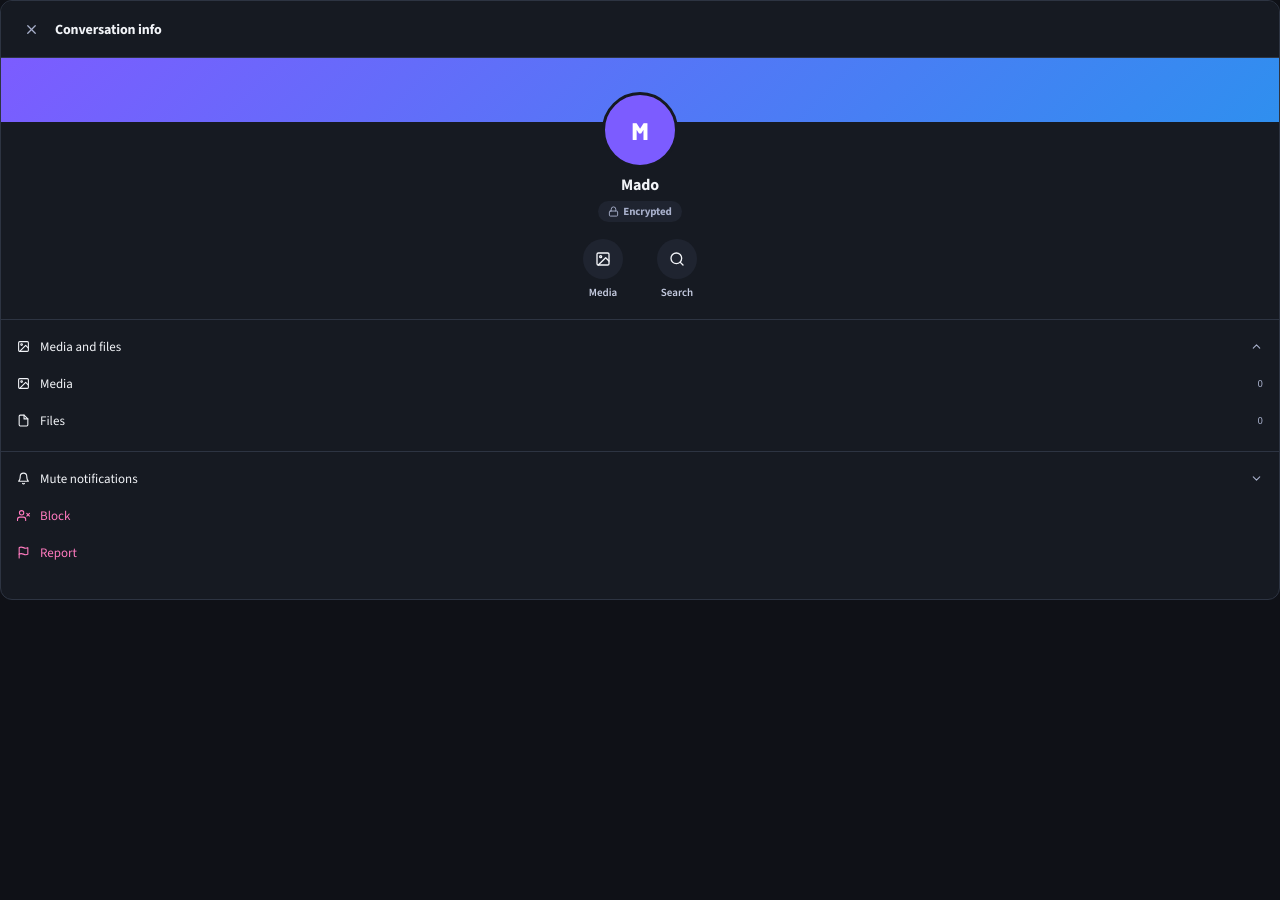
Test: ConversationInfoPanel blocking › does nothing when cancelled
Click the button "Block" at (55,516), box [9,497,1271,534]
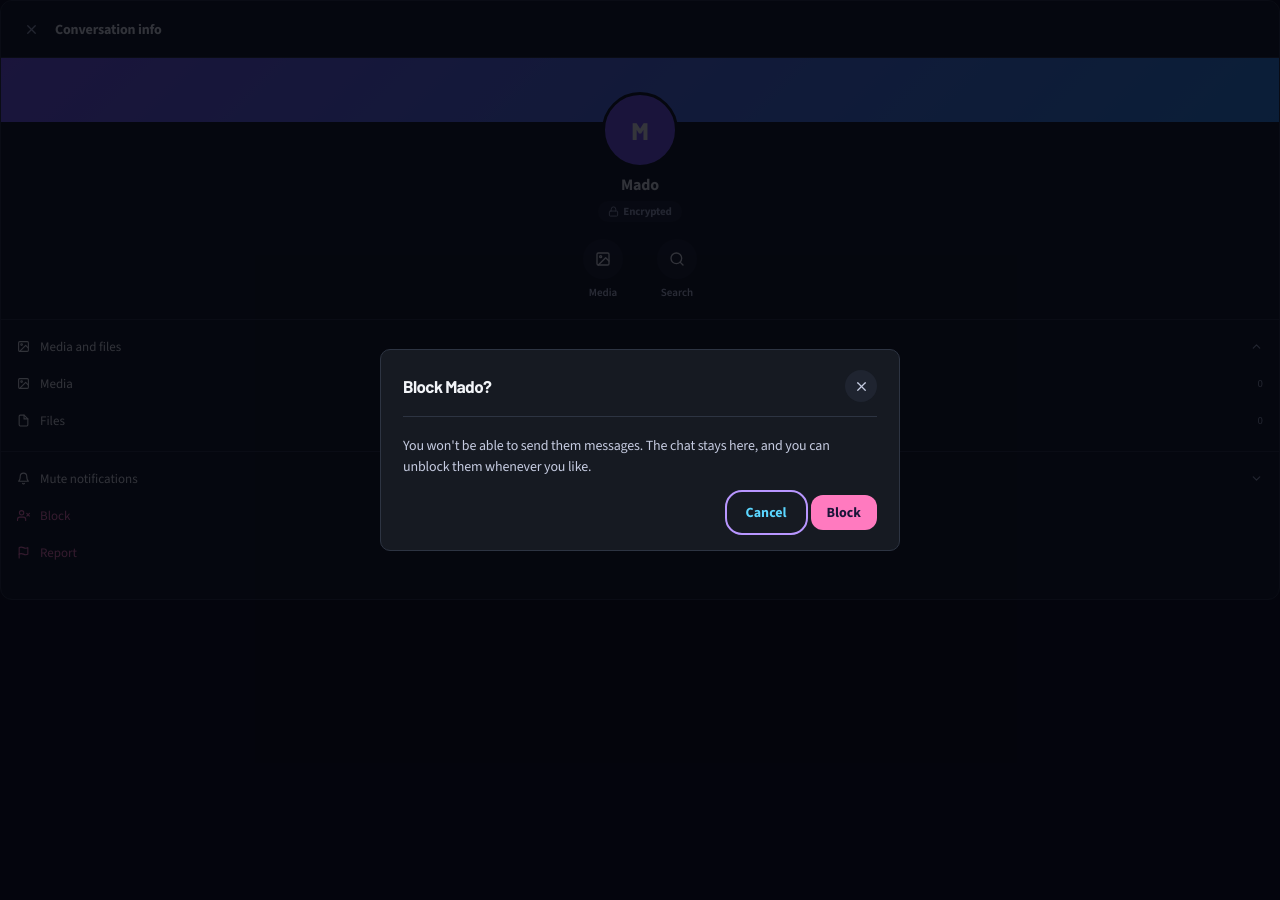
Click the button "Cancel" at (766,512), box [730,495,802,530]
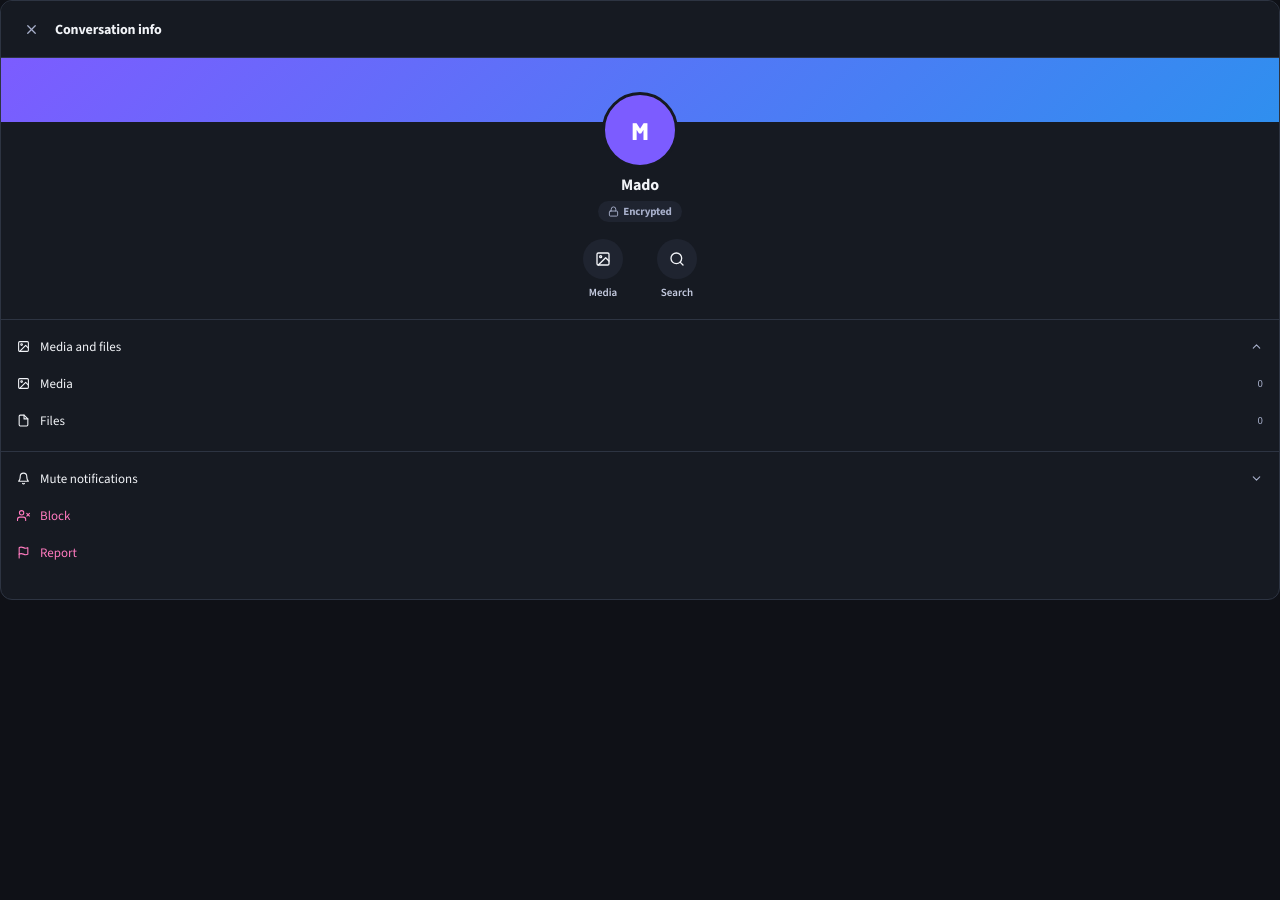
Expected: the dialog is gone
